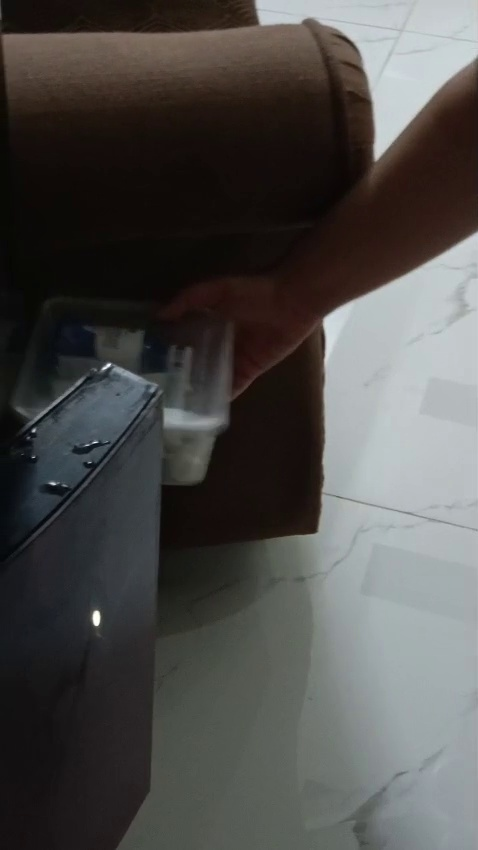medicine box: (19, 288, 288, 530)
